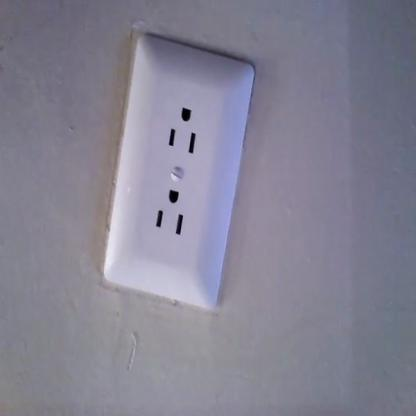OUTLET: (109, 50, 242, 304)
